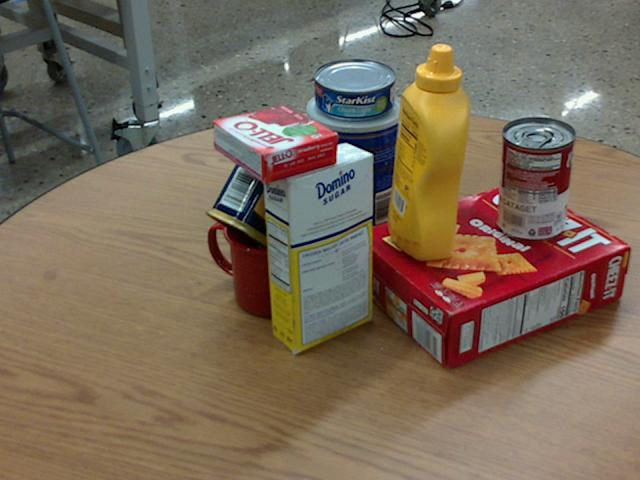cracker_box: (353, 179, 628, 369)
gelatin_box: (212, 103, 337, 183)
large_marker: (435, 125, 456, 228)
master_chef_can: (308, 85, 405, 242)
mug: (206, 201, 316, 315)
mustard_bottle: (387, 43, 469, 260)
potted_meat_can: (205, 135, 328, 261)
sugar_box: (260, 142, 371, 351)
tomato_soup_can: (497, 115, 575, 240)
tuna_fish_can: (314, 58, 396, 118)
